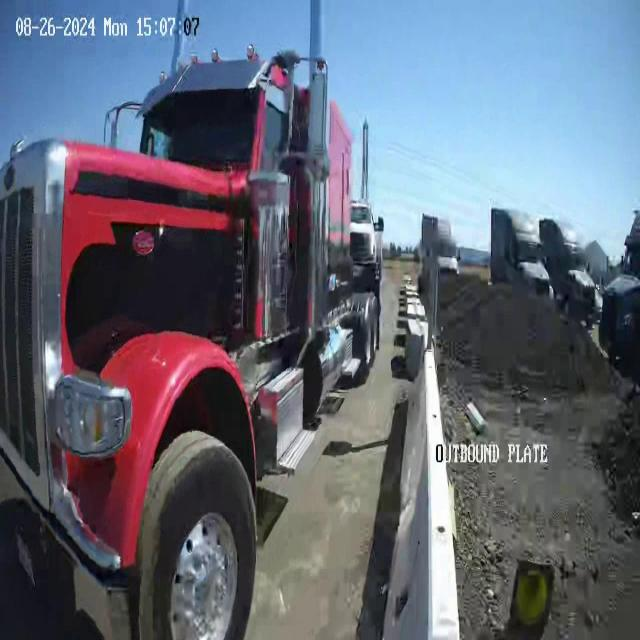TRUCK_OUT: (1, 47, 384, 638)
